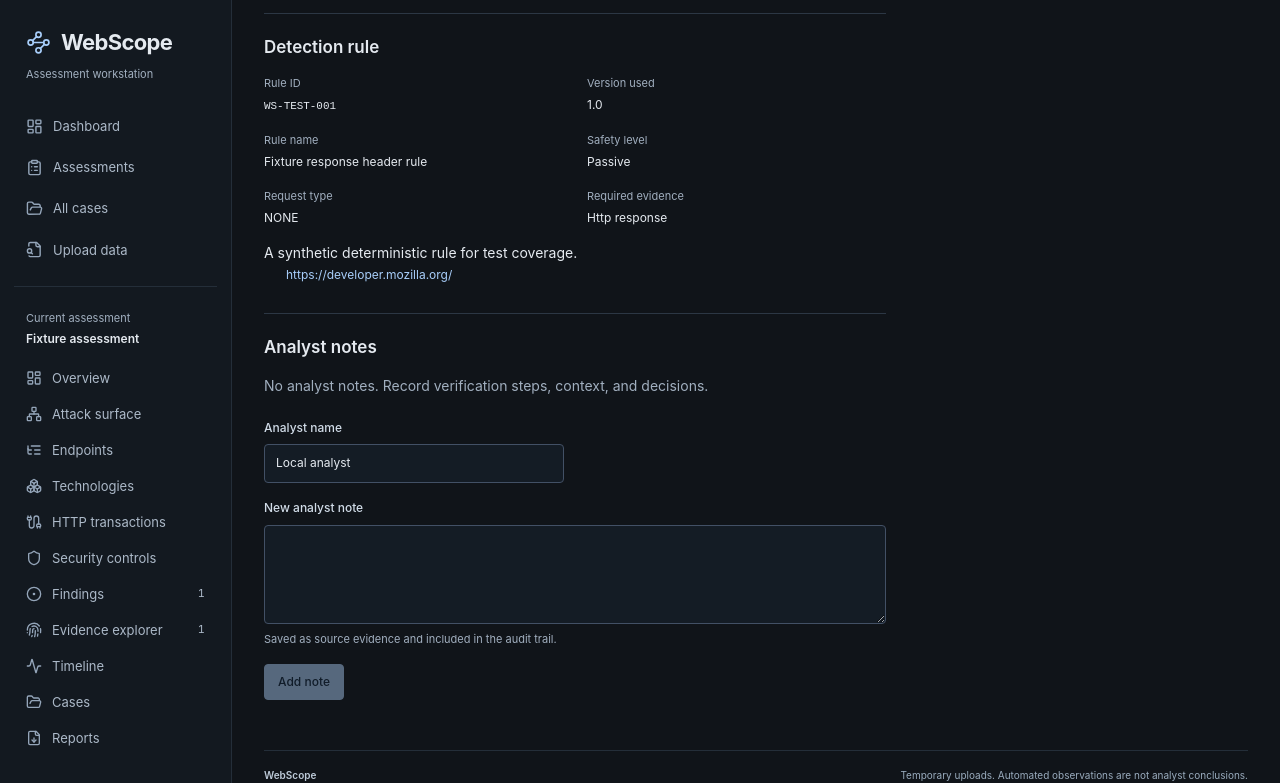
Scenario: finding and evidence review › persists an analyst note and its source evidence link
(page scrolled)
In the text box labelled "New analyst note": (575, 574) 264,524 -> 886,624, type "Rechecked the response; policy remains absent."
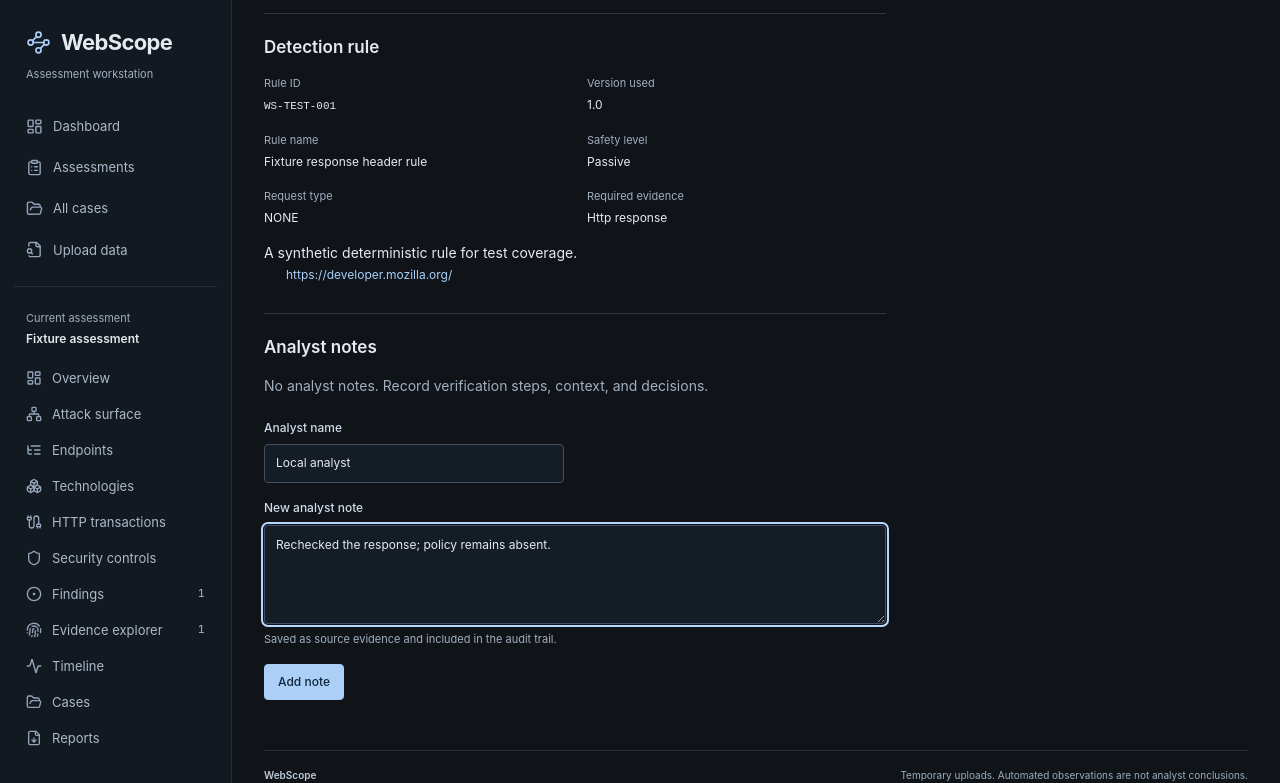
Click the button "Add note": (304, 682) 264,664 -> 344,700
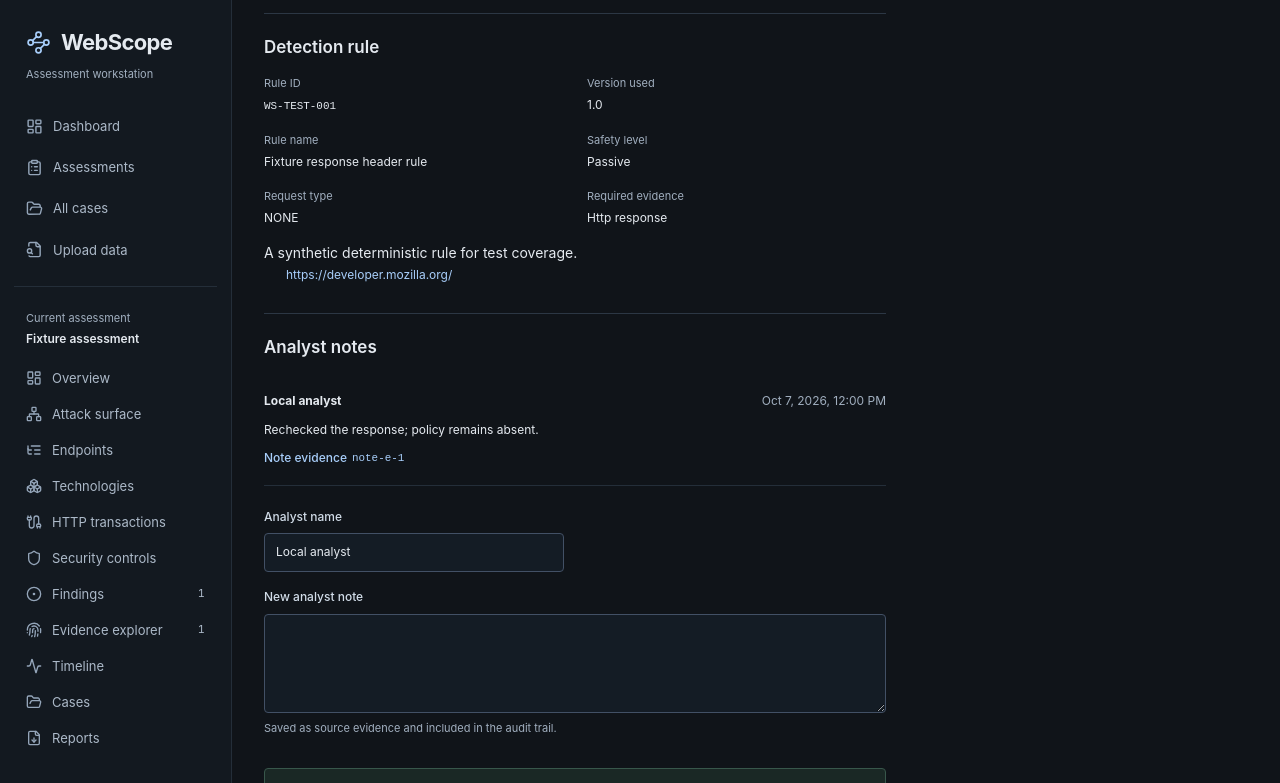
Now the text "Rechecked the response; policy remains absent." is shown, box 264,422 -> 539,437
